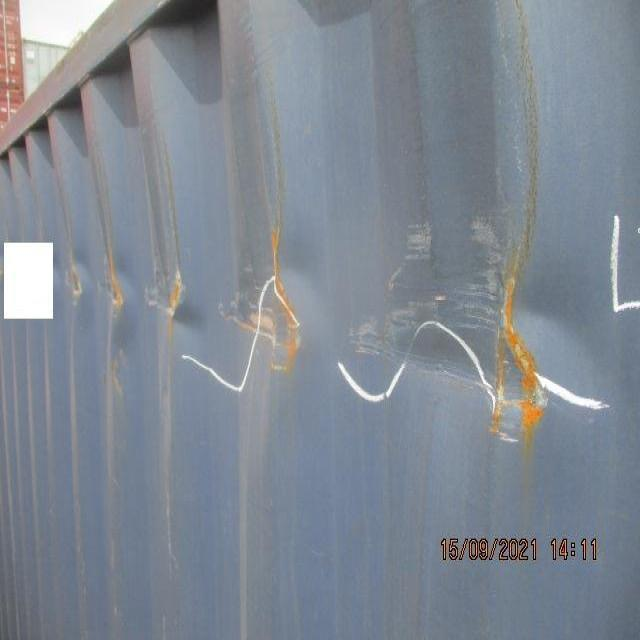Dent: (54, 171, 630, 508)
